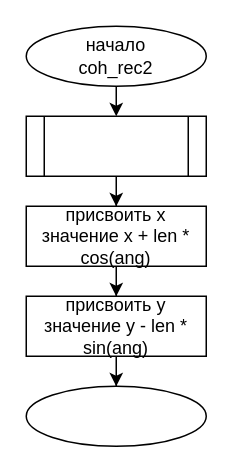
Image size: 233x473. Some labels were removed from this diagram. Here are the shapes that lost their labels. From the top down, the box of each, then its label:
(25, 115, 206, 176): coh_rec(x, y, len, ang, stp)
(25, 385, 206, 446): конец coh_rec2
